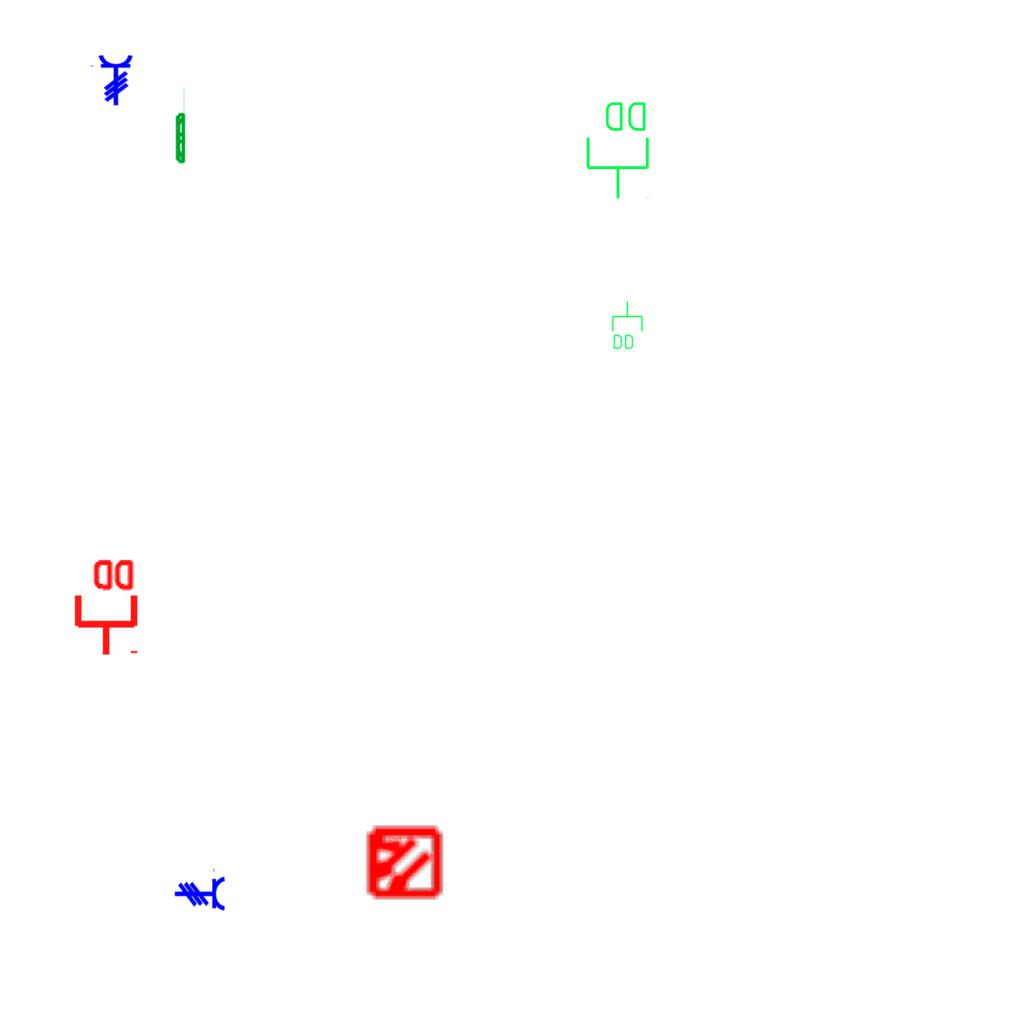CEE_Drehstrom_Steckdose_16_32_A: (89, 54, 134, 106), (174, 867, 226, 912)
Datenanschluss_zweifach: (584, 98, 653, 201), (70, 555, 139, 658), (610, 300, 644, 351)
OT_Multisensormelder_(Kombination_RMO_WMD): (346, 806, 459, 919)
Sicherheitsleuchte_Wandeinbau: (174, 86, 186, 165)
